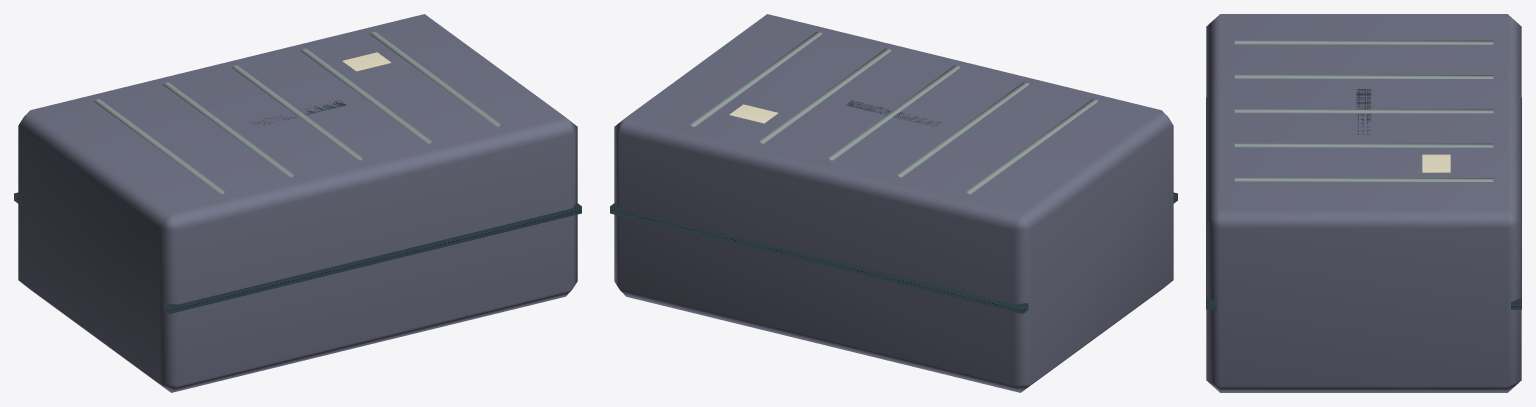
3 views of the same model, side by side, from view 1: azimuth 30°, elevation 25°; view 2: azimuth 150°, elevation 25°; view 3: azimuth 270°, elevation 25° (orthographic).
Visible parts, largest first — view 1: case, zipper_band, rib_-0.1287, rib_0.0, rib_0.2574, rib_-0.2574, rib_0.12869999999999998, id_tag; view 2: case, zipper_band, rib_-0.1287, rib_0.0, rib_0.2574, rib_-0.2574, rib_0.12869999999999998, id_tag; view 3: case, rib_-0.2574, rib_0.0, rib_0.12869999999999998, rib_-0.1287, rib_0.2574, zipper_band, id_tag, handle.
Boxes of the visible parts, x1,y1,x2,y2 form: case: [18, 14, 577, 392]; zipper_band: [14, 192, 581, 313]; rib_-0.1287: [163, 82, 294, 177]; rib_0.0: [232, 65, 363, 160]; rib_0.2574: [370, 31, 501, 126]; rib_-0.2574: [94, 99, 225, 194]; rib_0.12869999999999998: [301, 48, 432, 143]; id_tag: [342, 52, 391, 71]; case: [614, 14, 1173, 392]; zipper_band: [610, 192, 1177, 313]; rib_-0.1287: [897, 82, 1028, 177]; rib_0.0: [828, 65, 959, 160]; rib_0.2574: [690, 31, 821, 126]; rib_-0.2574: [966, 99, 1097, 194]; rib_0.12869999999999998: [759, 48, 890, 143]; id_tag: [729, 104, 777, 123]; case: [1206, 14, 1521, 392]; rib_-0.2574: [1234, 40, 1493, 44]; rib_0.0: [1234, 109, 1493, 113]; rib_0.12869999999999998: [1234, 143, 1493, 147]; rib_-0.1287: [1234, 75, 1493, 78]; rib_0.2574: [1234, 178, 1493, 181]; zipper_band: [1206, 97, 1521, 309]; id_tag: [1422, 154, 1450, 172]; handle: [1356, 89, 1371, 134].
Bounding box in the file's own units: 0.78 × 0.501 × 0.3225.
